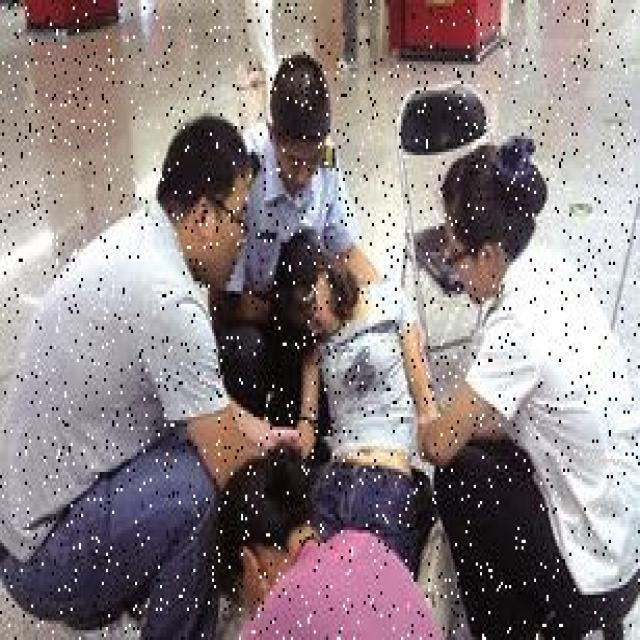fall: (297, 246, 430, 540)
